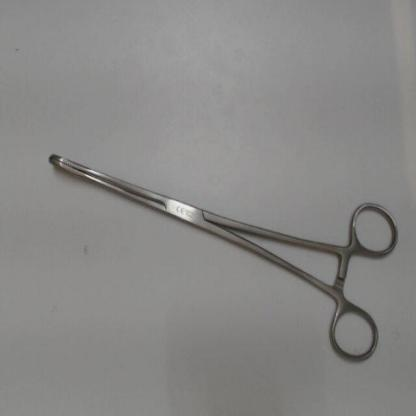Sponge Forceps: (41, 143, 403, 374)
